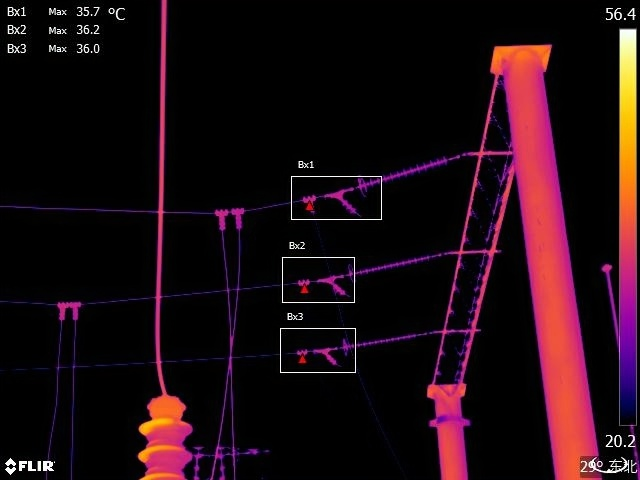clamp: (226, 202, 248, 233), (297, 189, 321, 216), (210, 204, 229, 237), (50, 298, 70, 325), (67, 296, 84, 327), (294, 273, 314, 298), (290, 342, 310, 367)
insulator: (355, 152, 449, 197), (346, 244, 438, 286), (338, 324, 429, 358)
post insulator: (132, 385, 195, 480)
tube: (337, 196, 360, 216), (329, 280, 353, 299), (322, 350, 340, 369)
